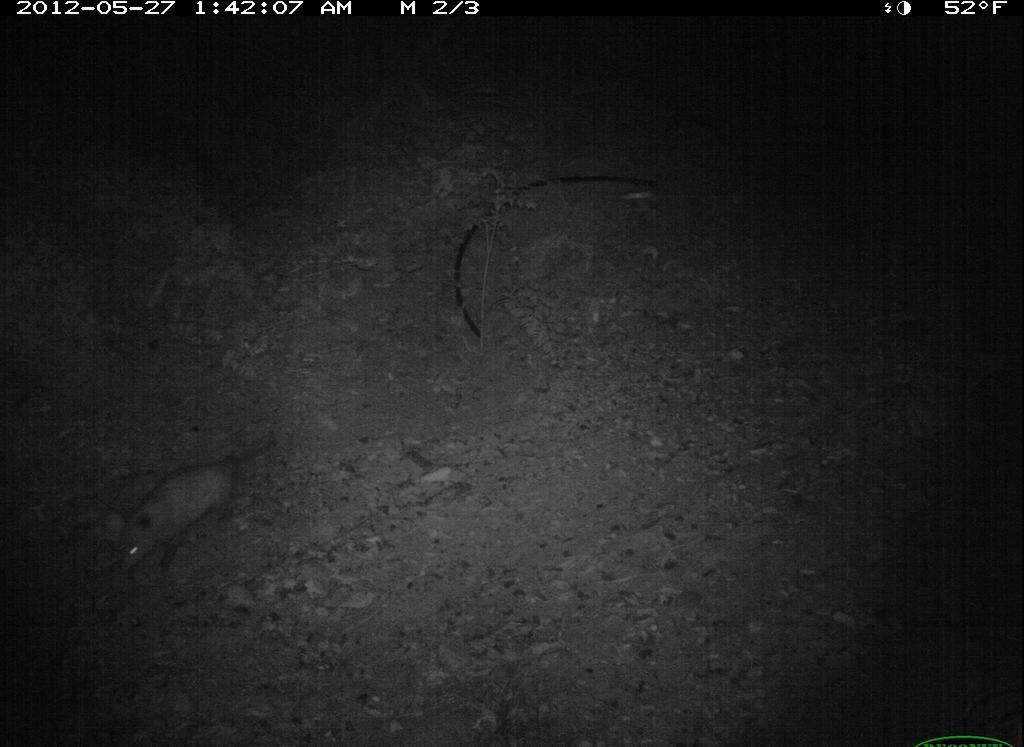opossum: (108, 437, 286, 583)
